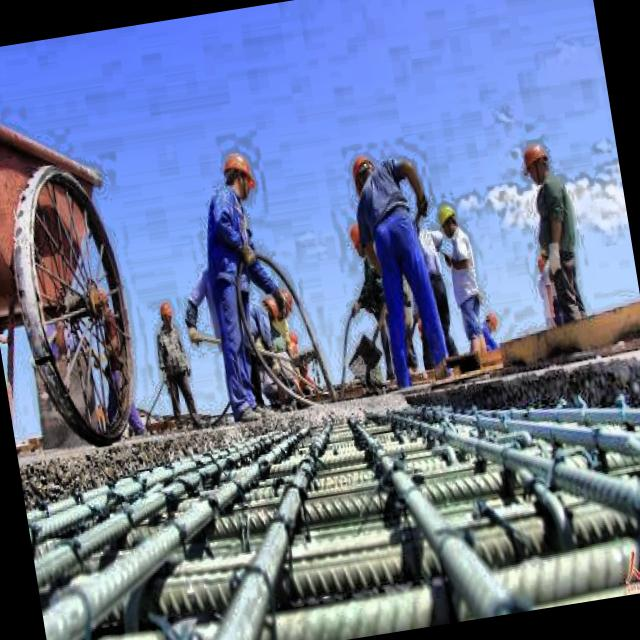helmet: (217, 144, 260, 206), (514, 135, 556, 192), (346, 149, 382, 197), (347, 216, 378, 263), (436, 198, 463, 243), (258, 288, 284, 329), (156, 294, 178, 329), (273, 285, 296, 318)
